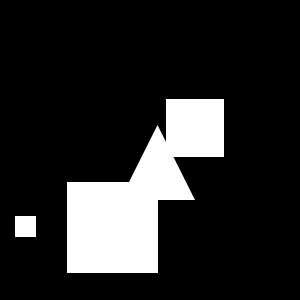circle: (67, 182, 158, 273), (166, 99, 224, 157), (15, 216, 36, 237)
triangle: (120, 125, 195, 200)
